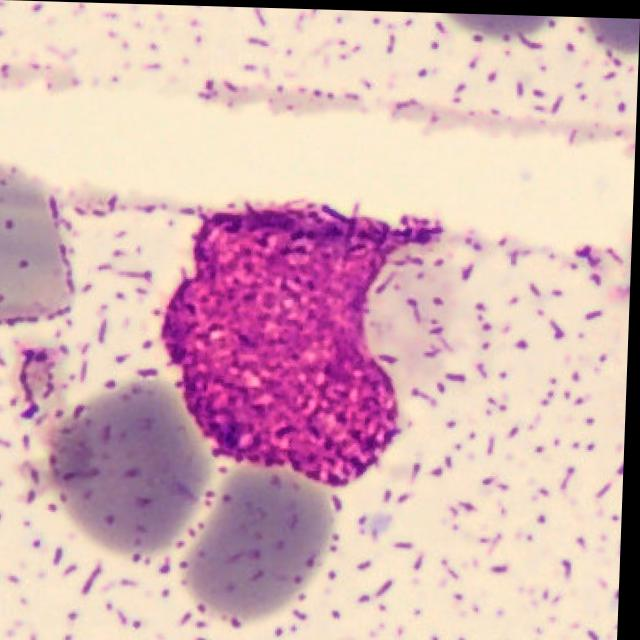Restos celulares: (163, 201, 443, 487)
